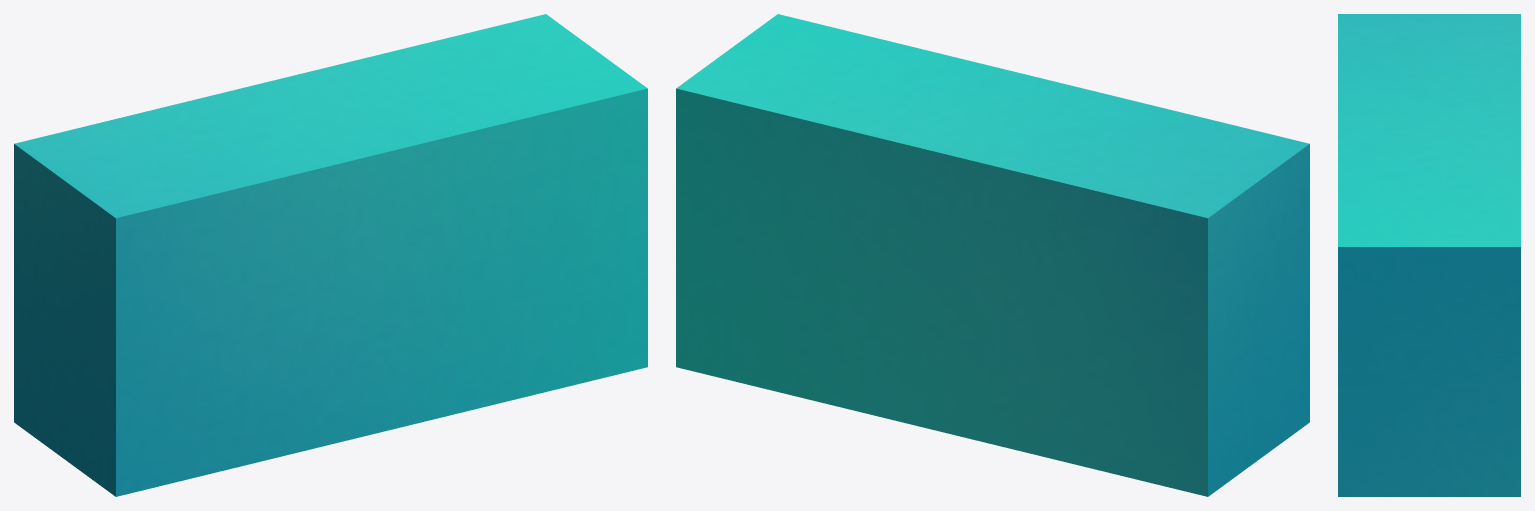
File: machine_button.gltf
3 views of the same model, side by side, from view 1: azimuth 30°, elevation 25°; view 2: azimuth 150°, elevation 25°; view 3: azimuth 270°, elevation 25° (orthographic). The views are drawn at different scales.
Parts seen in each view (by area): view 1: button; view 2: button; view 3: button.
Boxes of the visible parts, left/top/right/bottom form: button: left=14, top=14, right=647, bottom=496; button: left=676, top=14, right=1309, bottom=496; button: left=1338, top=14, right=1520, bottom=496.
Bounding box in the file's own units: 0.6059 × 0.3033 × 0.2009.
Materials: 1 (1 with a texture image).
